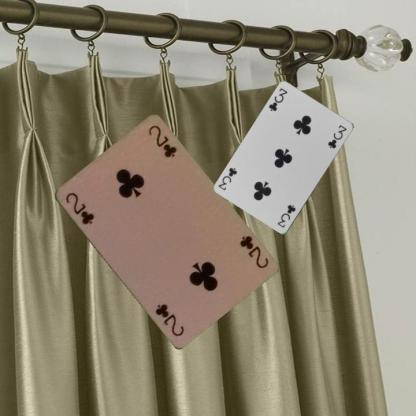2c: (236, 232, 270, 270), (62, 189, 96, 226)
3c: (274, 203, 297, 230), (266, 86, 289, 112)
